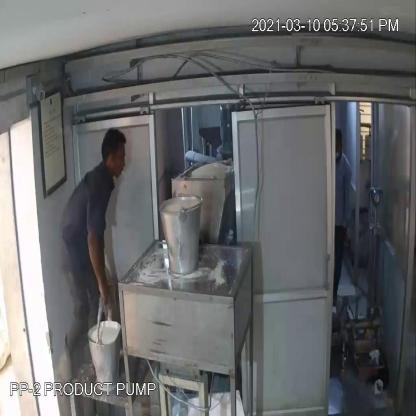no_glove: (86, 218, 115, 317)
